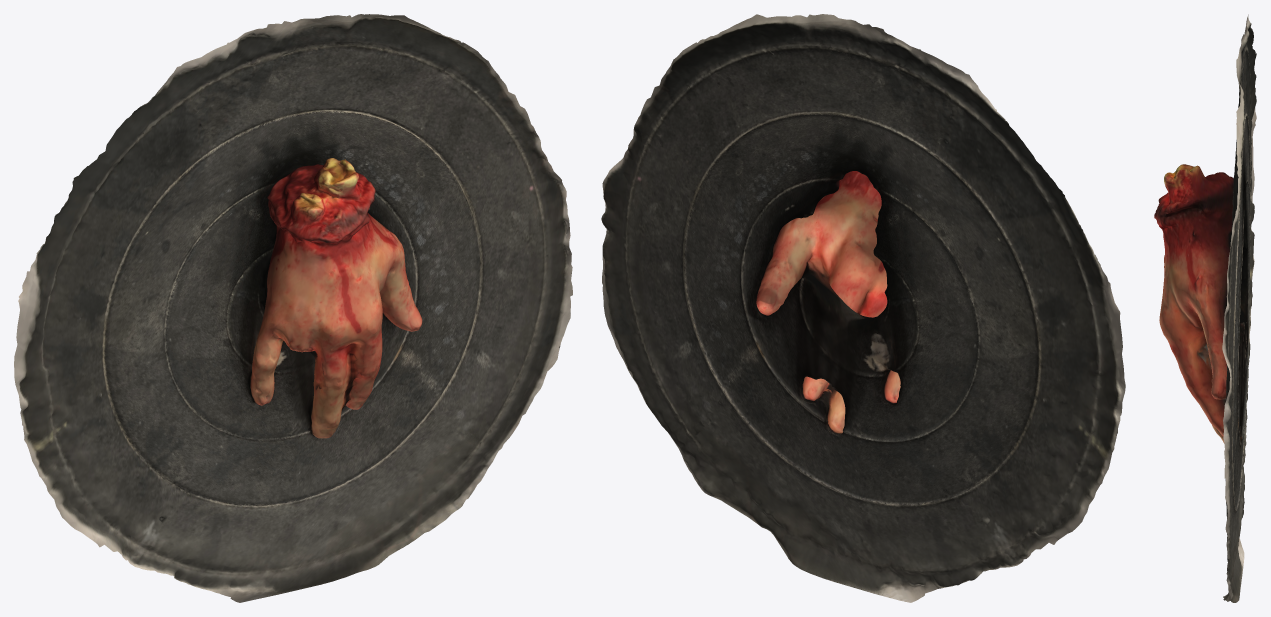
Rendered from hand.glb.
3 views of the same model, side by side, from view 1: azimuth 30°, elevation 25°; view 2: azimuth 150°, elevation 25°; view 3: azimuth 270°, elevation 25° (orthographic). The views are drawn at different scales.
Parts seen in each view (by area): view 1: mainMeshNode; view 2: mainMeshNode; view 3: mainMeshNode.
Boxes of the visible parts, bbox=[...] form: mainMeshNode: bbox=[14, 14, 572, 602]; mainMeshNode: bbox=[601, 14, 1125, 602]; mainMeshNode: bbox=[1154, 14, 1256, 602].
Bounding box in the file's own units: 36.6 × 36.86 × 6.44.
1 material, 1 textured.
